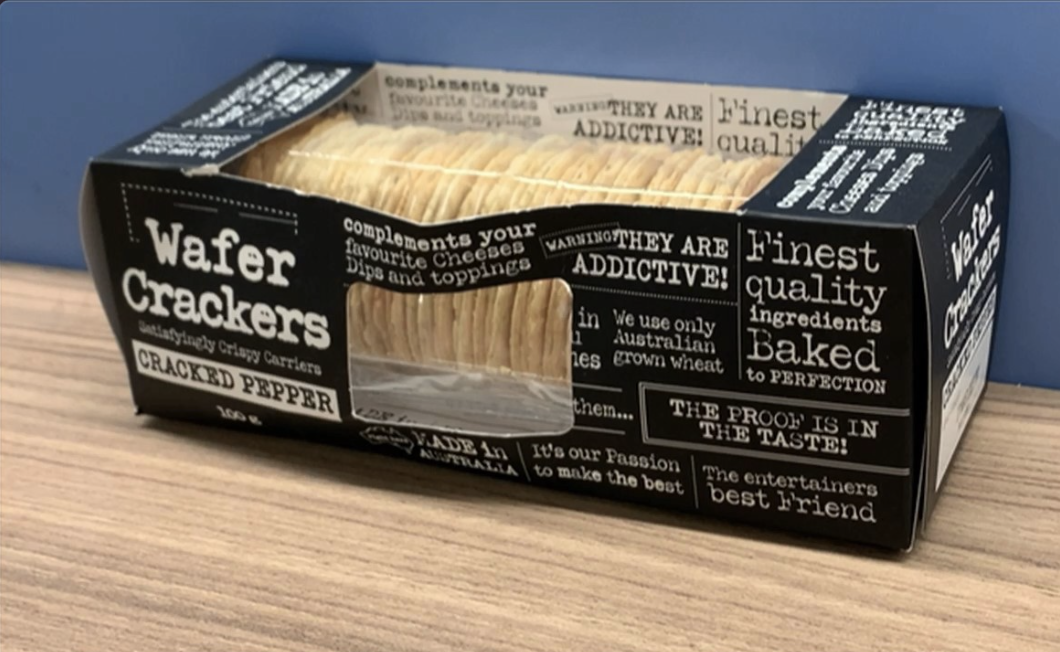crackers_150g: (118, 190, 911, 474)
